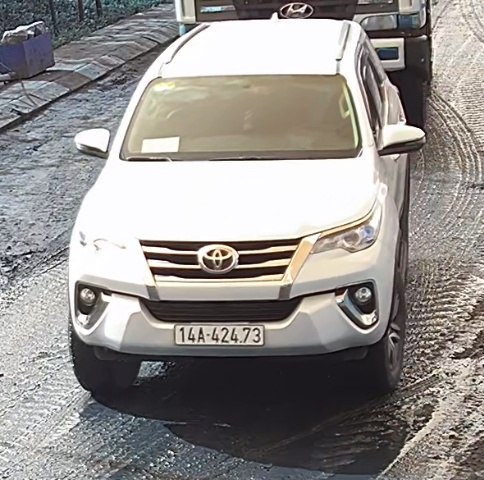vehicle plate: (173, 321, 268, 348)
